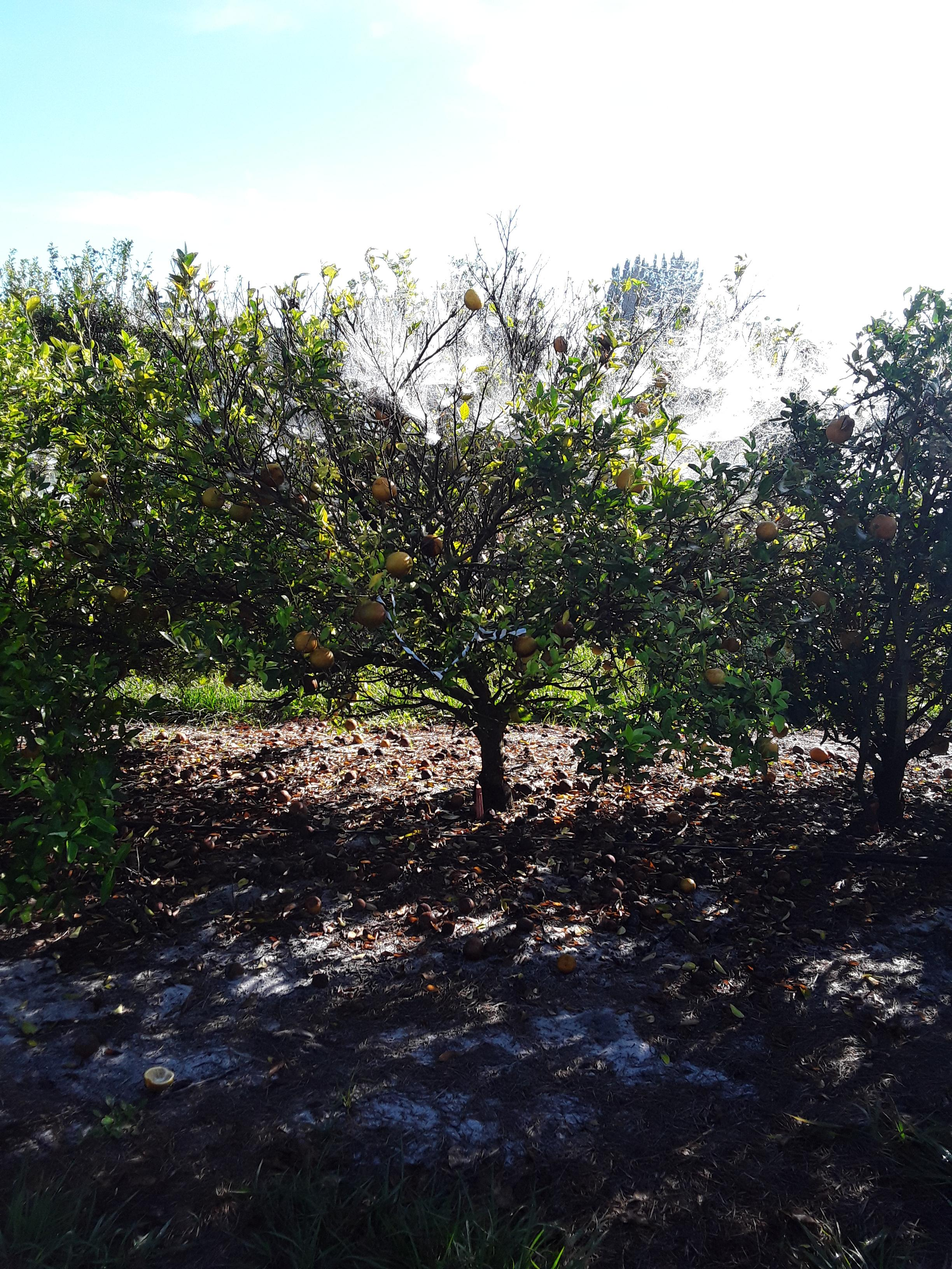fruit_on_ground: (353, 597, 387, 629), (867, 510, 900, 541), (824, 415, 856, 446), (615, 465, 646, 495), (384, 548, 414, 578), (836, 627, 865, 653), (369, 475, 396, 502), (752, 735, 780, 761), (462, 285, 488, 312), (511, 632, 539, 657), (308, 646, 336, 671), (372, 401, 398, 427), (200, 484, 226, 510), (227, 500, 255, 524), (507, 702, 534, 726), (550, 614, 577, 638), (292, 629, 319, 653), (420, 532, 445, 557), (262, 459, 287, 484), (753, 517, 779, 541), (768, 715, 792, 739), (703, 664, 728, 687), (84, 475, 107, 498), (808, 587, 830, 609), (301, 480, 323, 502), (720, 633, 743, 654), (445, 455, 468, 476), (538, 646, 559, 668), (107, 582, 129, 603), (710, 584, 732, 604), (88, 468, 110, 488), (596, 332, 617, 352), (300, 674, 321, 694), (551, 333, 570, 354), (598, 657, 619, 675), (621, 652, 642, 669), (633, 400, 651, 418), (587, 642, 606, 659), (653, 375, 670, 390), (343, 717, 359, 731)
fruit_on_tree: (138, 1061, 179, 1098), (460, 935, 489, 962), (554, 949, 579, 975), (221, 960, 248, 982), (676, 874, 699, 896), (454, 895, 476, 916), (302, 892, 323, 914), (514, 916, 536, 935), (445, 792, 466, 811), (809, 745, 831, 763), (288, 800, 308, 816), (666, 809, 684, 826), (350, 897, 367, 913), (761, 767, 777, 783), (524, 803, 541, 818), (634, 804, 651, 819), (275, 789, 292, 803), (558, 778, 573, 793), (251, 771, 268, 784), (692, 785, 707, 799), (602, 853, 617, 867), (518, 781, 533, 794), (343, 769, 358, 782), (356, 745, 372, 757), (791, 743, 805, 756), (351, 733, 365, 746), (420, 767, 433, 780), (376, 738, 390, 750), (384, 729, 398, 740), (263, 769, 276, 780), (556, 770, 569, 781), (390, 759, 403, 769), (420, 759, 431, 770), (399, 738, 411, 748), (373, 748, 384, 757), (317, 720, 328, 728), (455, 738, 465, 745), (392, 733, 401, 740), (313, 725, 321, 731)
